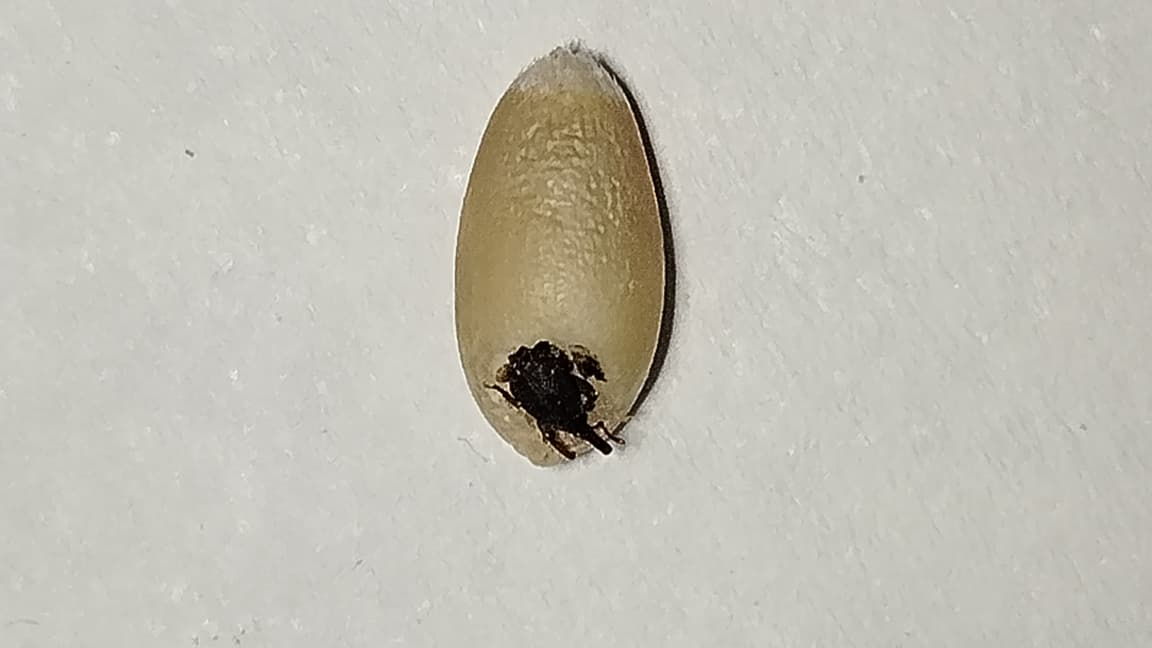healthy: (454, 41, 678, 470)
